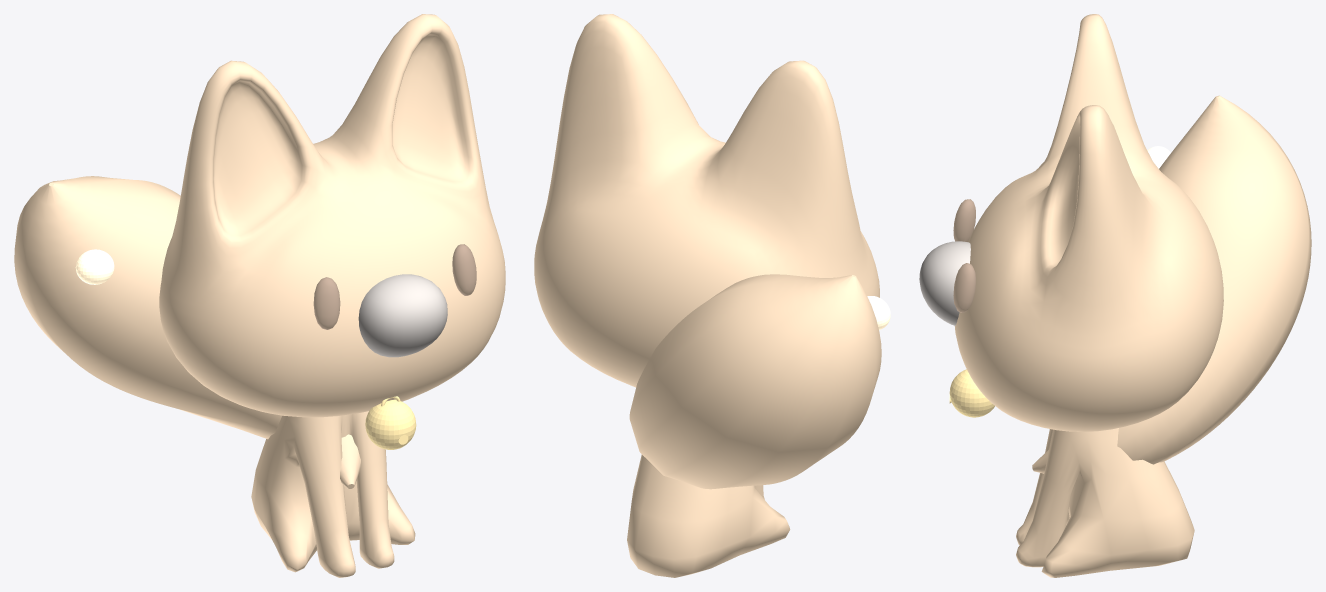
File: fox-base-v10-lucky-charm.glb
3 renders of one model, left to right at view 1: azimuth 30°, elevation 25°; view 2: azimuth 150°, elevation 25°; view 3: azimuth 270°, elevation 25°, orthographic. The views are drawn at different scales.
Parts seen in each view (by area): view 1: FoxBase_Head, FoxBase_Tail, FoxBase_Body, FoxBase_Muzzle, FoxBase_AccBell, FoxBase_EyeRight, FoxBase_TailTip, FoxBase_EyeLeft; view 2: FoxBase_Head, FoxBase_Tail, FoxBase_Body, FoxBase_TailTip; view 3: FoxBase_Head, FoxBase_Tail, FoxBase_Body, FoxBase_Muzzle, FoxBase_AccBell, FoxBase_EyeLeft, FoxBase_EyeRight.
Boxes of the visible parts, x1,y1,x2,y2 form: FoxBase_Head: (159, 14, 505, 417); FoxBase_Tail: (14, 176, 360, 488); FoxBase_Body: (251, 411, 415, 577); FoxBase_Muzzle: (358, 274, 447, 357); FoxBase_AccBell: (365, 396, 416, 449); FoxBase_EyeRight: (313, 277, 340, 329); FoxBase_TailTip: (75, 249, 114, 284); FoxBase_EyeLeft: (452, 244, 476, 295); FoxBase_Head: (534, 14, 879, 387); FoxBase_Tail: (629, 274, 881, 489); FoxBase_Body: (627, 454, 790, 577); FoxBase_TailTip: (867, 296, 890, 330); FoxBase_Head: (954, 14, 1223, 431); FoxBase_Tail: (1032, 95, 1311, 473); FoxBase_Body: (1016, 428, 1194, 577); FoxBase_Muzzle: (919, 241, 970, 325); FoxBase_AccBell: (949, 369, 994, 417); FoxBase_EyeLeft: (953, 263, 975, 312); FoxBase_EyeRight: (953, 199, 975, 241).
Size of the model in its own units: 0.0997 by 0.123 by 0.0883.
